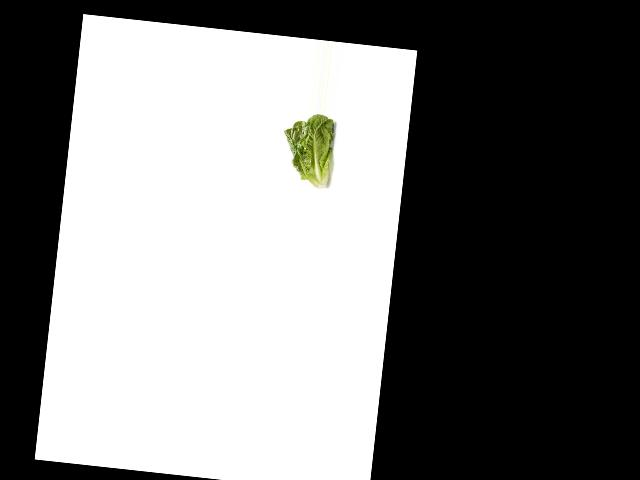lettuce: (277, 110, 347, 193)
